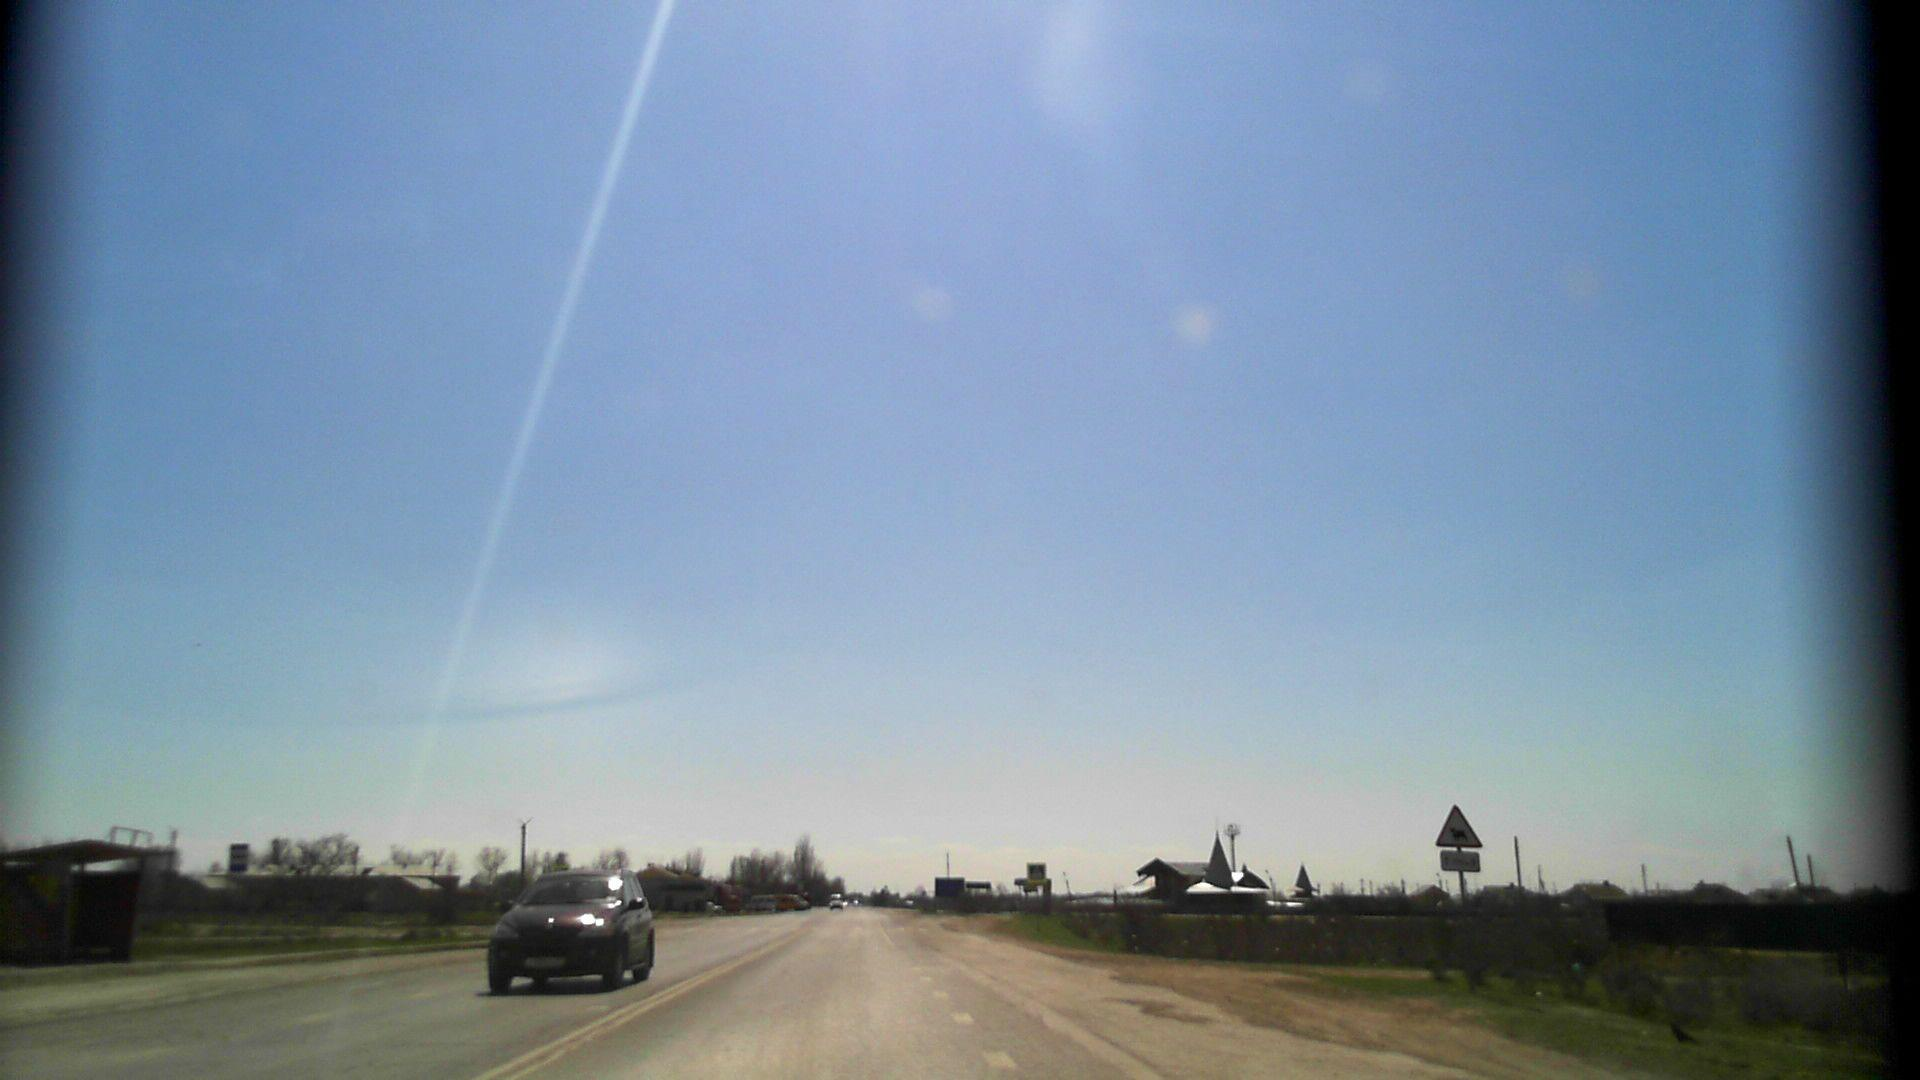1_26: (1436, 798, 1484, 848)
5_16: (229, 843, 249, 872)
5_19_1: (1029, 864, 1047, 882)
5_19_2: (552, 864, 570, 872)
8_2_1: (1441, 848, 1481, 871)
